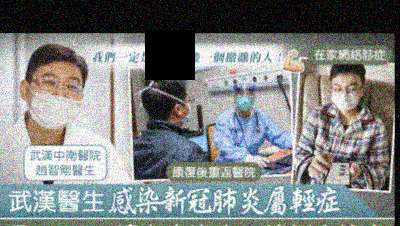with_mask: (26, 68, 83, 129), (330, 80, 361, 113), (180, 95, 194, 126), (235, 89, 255, 110)
